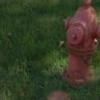Hydrant: (55, 1, 100, 95)
